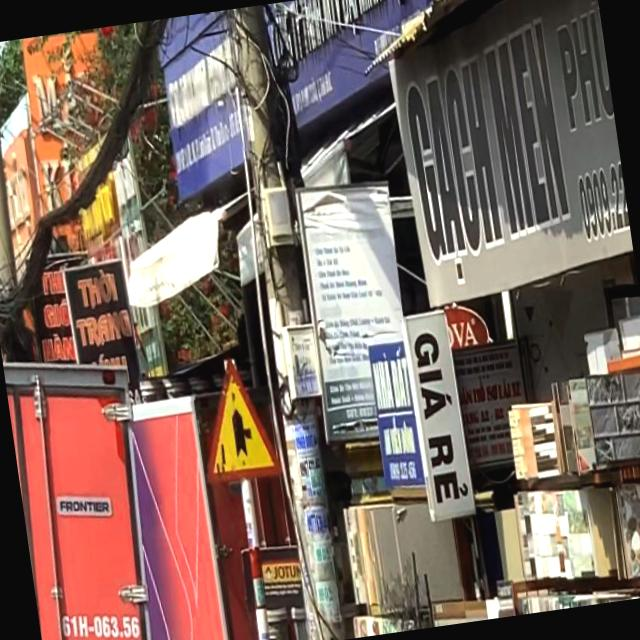Giao nhau voi duong khong uu tien ben phai: (189, 350, 283, 488)
